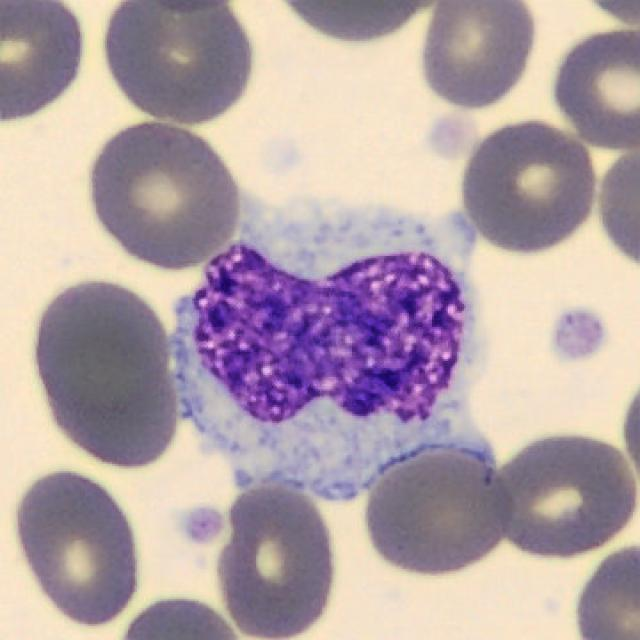Linfocito atipico: (172, 197, 494, 501)
